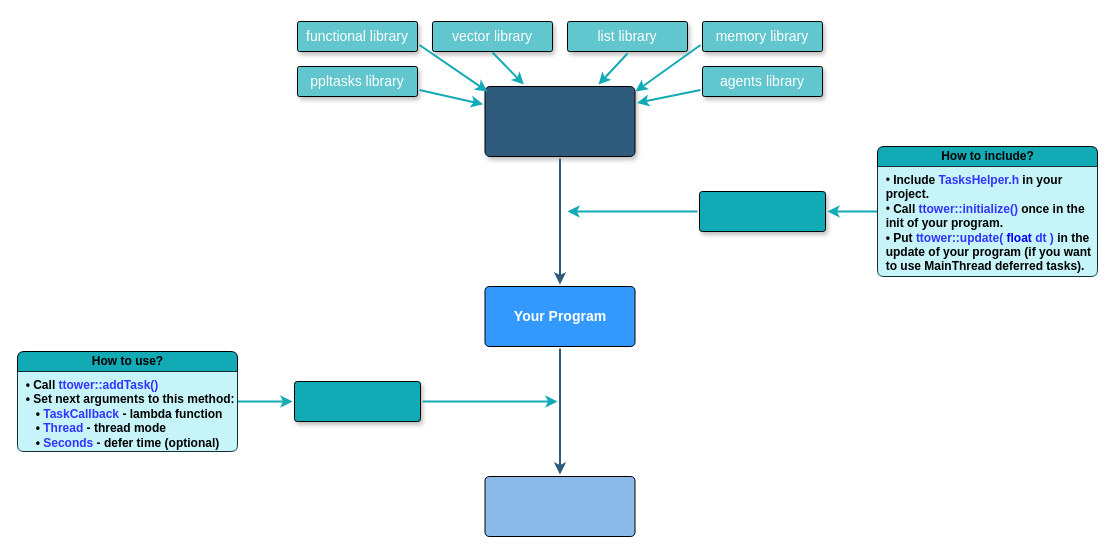
Image size: 1115x554. Some labels were removed from this diagram. The centre of each missing label's shape, as x and y in pixels:
"Execution" belongs at point 559,506.
"Include" belongs at point 763,212.
"TasksManager" belongs at point 560,123.
"Use" belongs at point 358,402.
